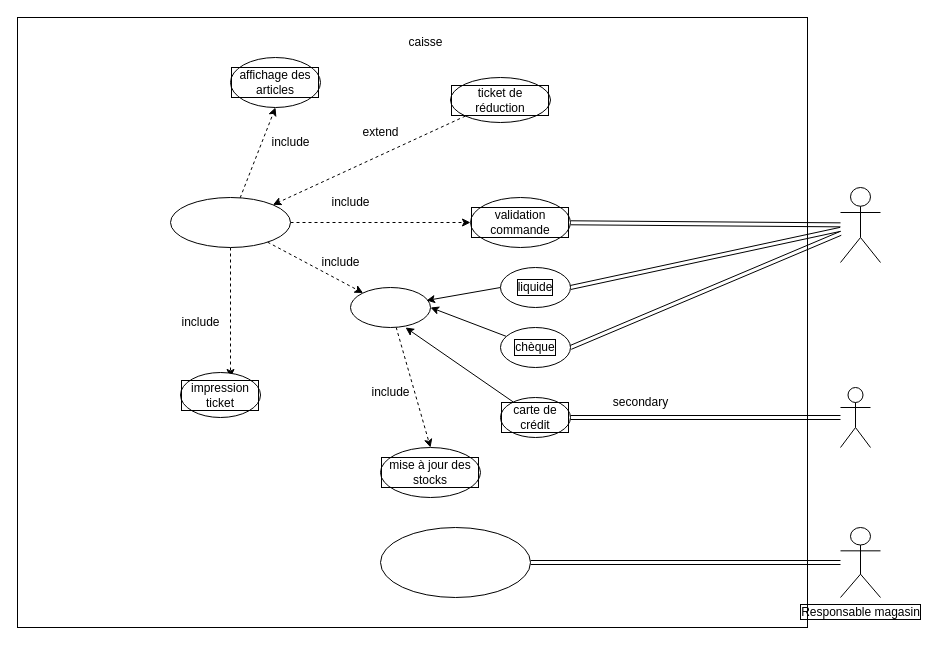
Image size: 938x645. Some labels were removed from this diagram. Here are the shapes that lost their labels. From the top down, the centre of each, then its label:
(x=230, y=222): passage en caisse
(x=860, y=224): caissier
(x=390, y=307): payer
(x=855, y=417): banque
(x=455, y=562): initialisation de la caisse pour la journée
